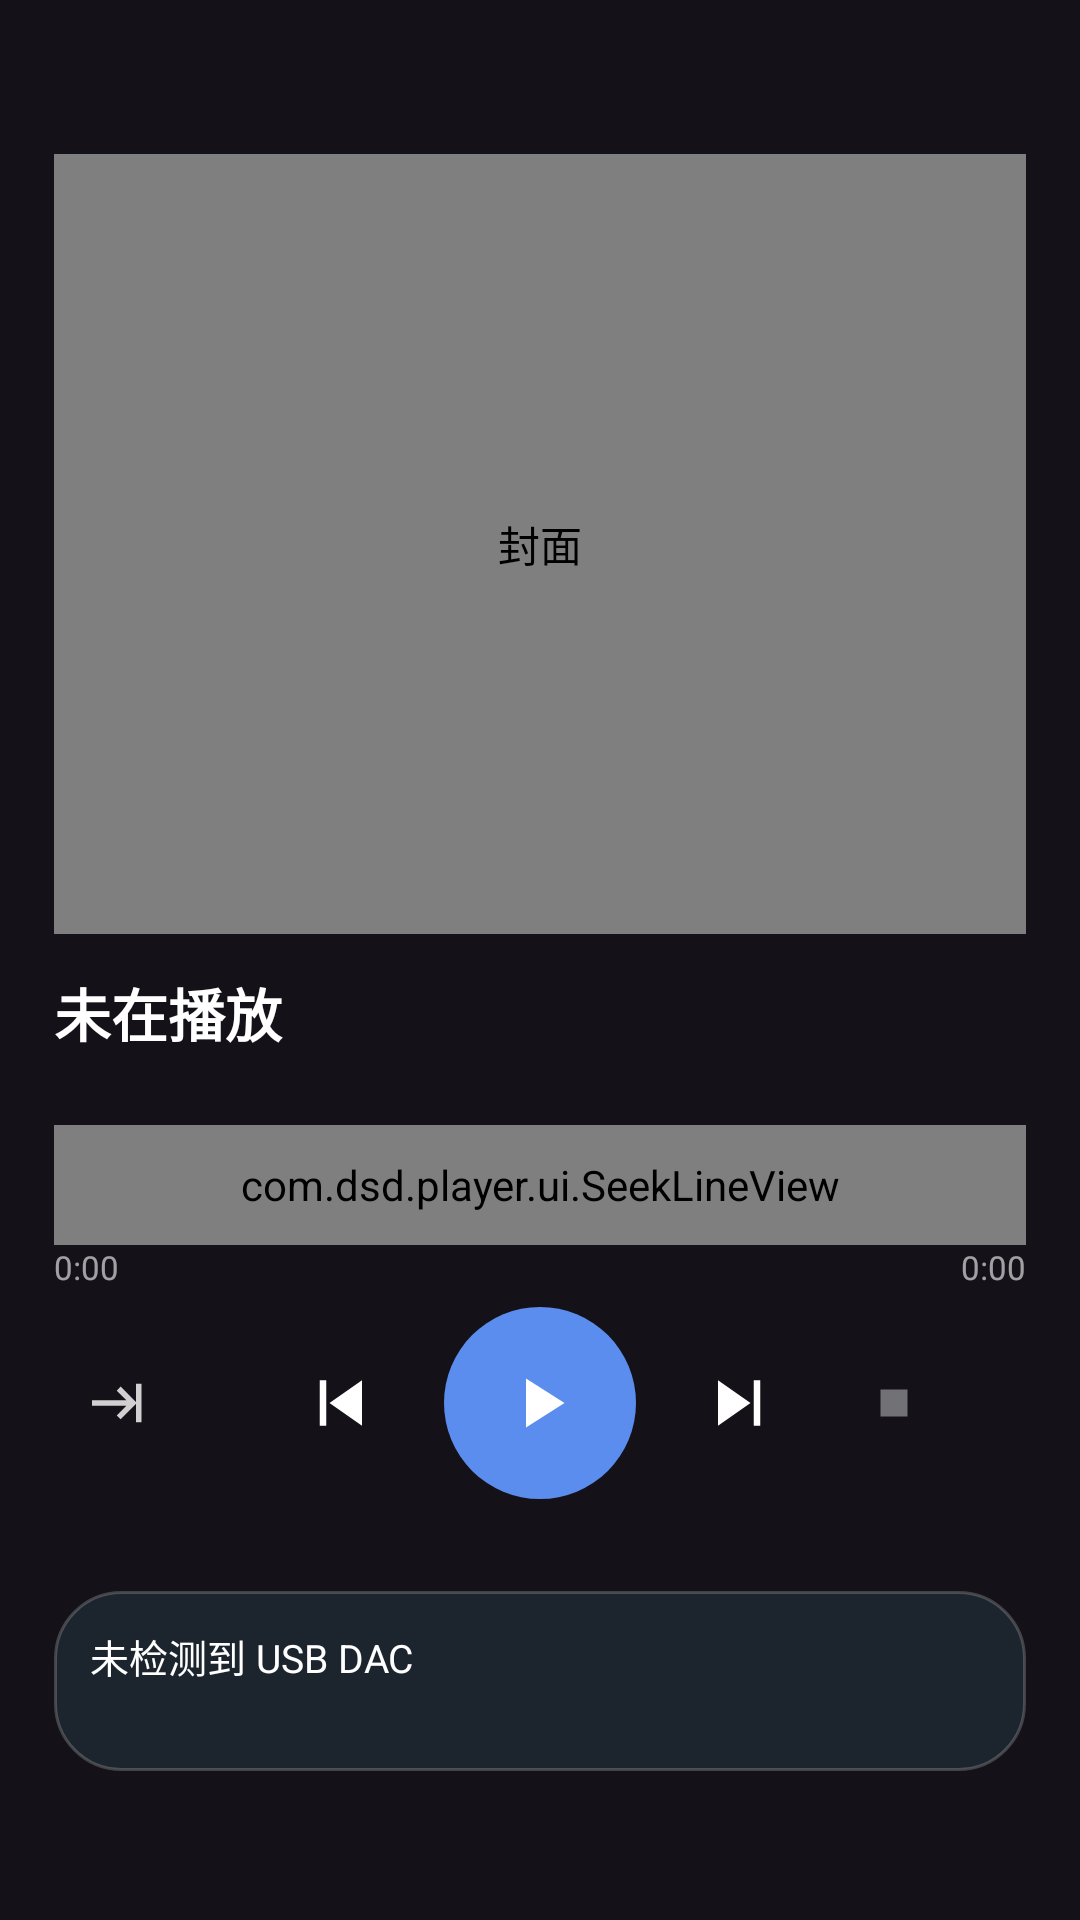

Icon bounding boxes for this 1080px x 1920px phone screenshot, format {"left": x1, "top": y1, "right": x2, "bottom": y2}:
上一首: {"left": 319, "top": 1380, "right": 362, "bottom": 1426}
下一首: {"left": 718, "top": 1380, "right": 761, "bottom": 1426}
停止: {"left": 880, "top": 1389, "right": 908, "bottom": 1417}
播放: {"left": 444, "top": 1307, "right": 636, "bottom": 1499}
播放模式: {"left": 92, "top": 1383, "right": 142, "bottom": 1423}
